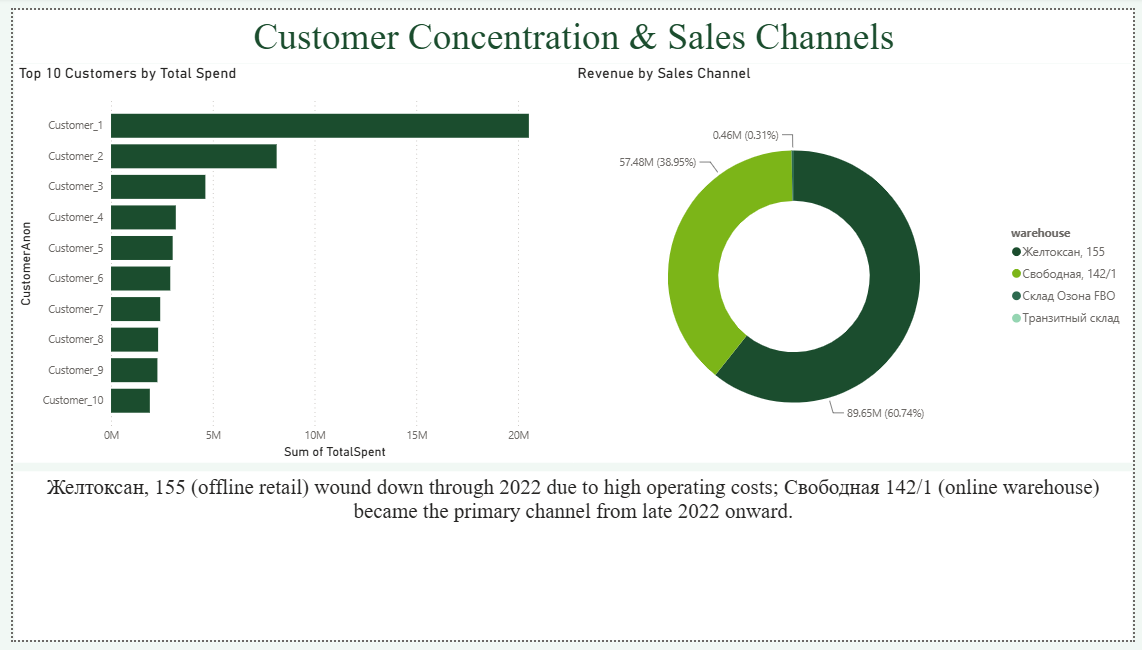

Layout of this report page (visuals, bound fields, positions):
{"tool":"powerbi","page":{"name":"Customers & Channels","canvas":[1280,720],"ordinal":1},"visuals":[{"type":"clusteredBarChart","title":"Top 10 Customers by Total Spend","fields":{"Category":["CustomerSummary.CustomerAnon"],"Y":["Sum(CustomerSummary.TotalSpent)"]},"box":[1.2,61.1,639.5,456.1],"z":0},{"type":"donutChart","title":"Revenue by Sales Channel","fields":{"Category":["sales.warehouse"],"Y":["Sum(sales.amount)"]},"box":[639.5,61.1,639.5,456.1],"z":1000},{"type":"textbox","box":[1.2,0,1279.1,61.1],"z":2000},{"type":"textbox","box":[1.2,527,1277.9,193.2],"z":3000}]}

Visuals, with their boxes in screenshot pixels (x1, y1, x2, y2), scaled from the page's 1280x720 canvas onto the 1142x650 screenshot:
"Top 10 Customers by Total Spend" clusteredBarChart: l=1, t=55, r=572, b=467
"Revenue by Sales Channel" donutChart: l=571, t=55, r=1141, b=467
textbox: l=1, t=0, r=1141, b=55
textbox: l=1, t=476, r=1141, b=649
